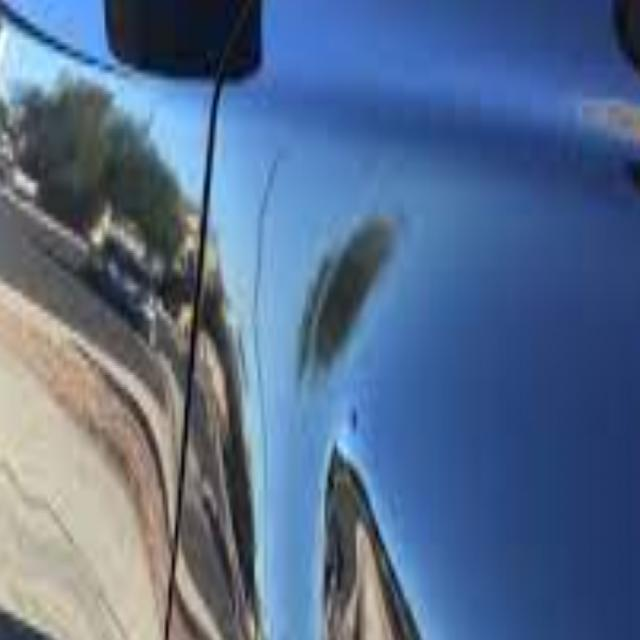dents: (300, 197, 414, 391)
